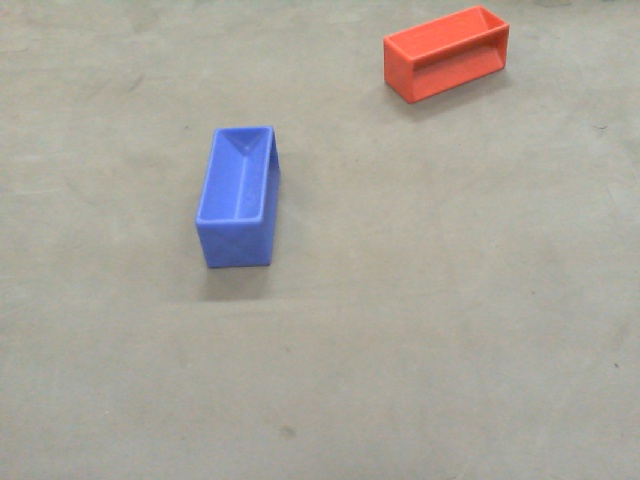BlueSample: (193, 123, 280, 274)
RedSample: (378, 2, 515, 105)
